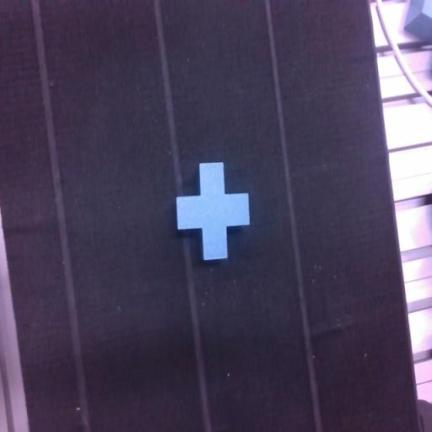cross: (177, 163, 249, 259)
